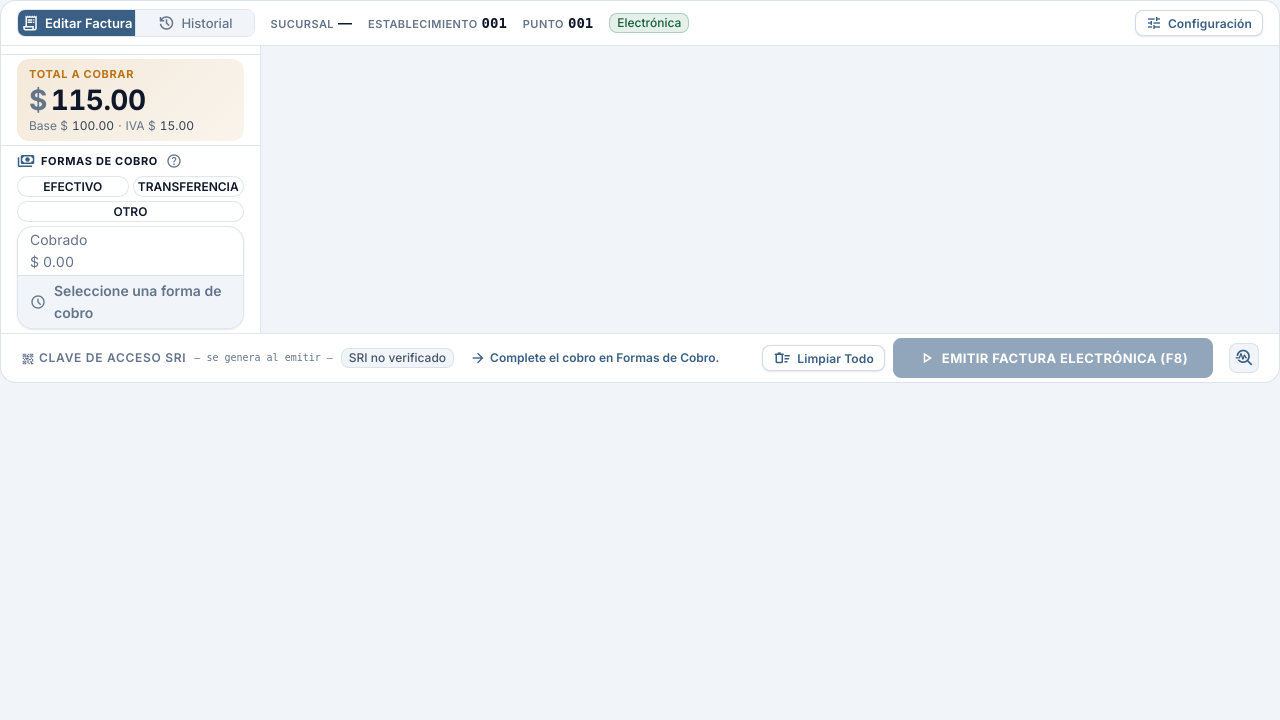
SalesPage — label de cabecera aclara que Forma Pago SRI es solo el default/respaldo (SALES-SRI-PAYMENT-FALLBACK-LABEL-01) › el tooltip explica que el default solo aplica sin mapeo SRI en la forma de cobro
Click the button "Configuración" at (1199, 23), box left=1135, top=10, right=1263, bottom=36
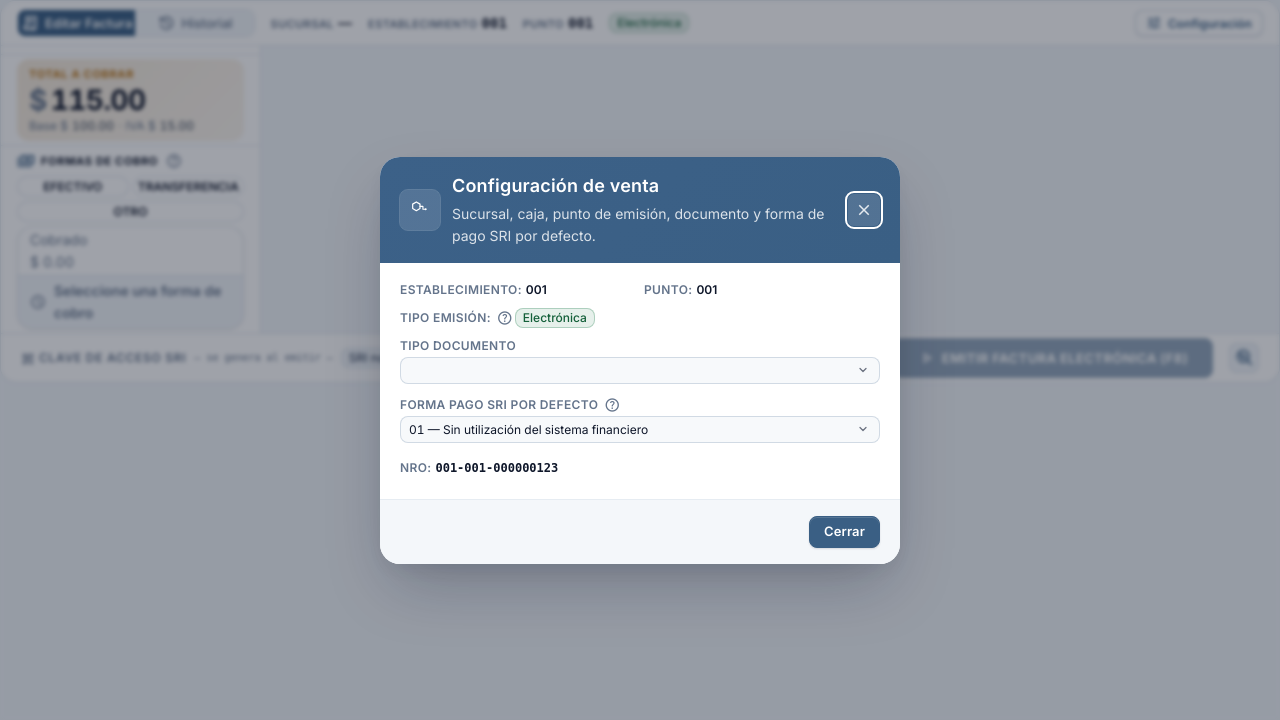
Hover over the button named "Forma Pago SRI por defecto" at (612, 405), box left=602, top=395, right=622, bottom=415
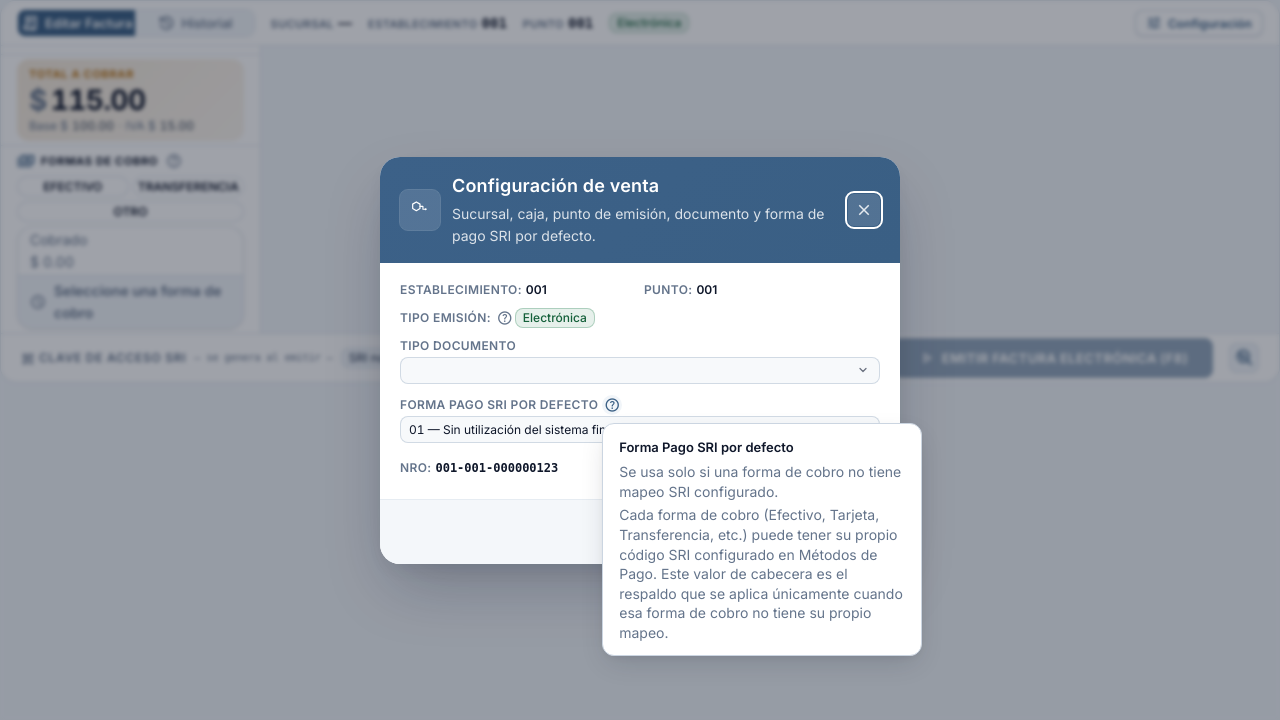
Expected: the text "Se usa solo si una forma de cobro no tiene mapeo SRI configurado." is shown, left=619, top=462, right=905, bottom=501
